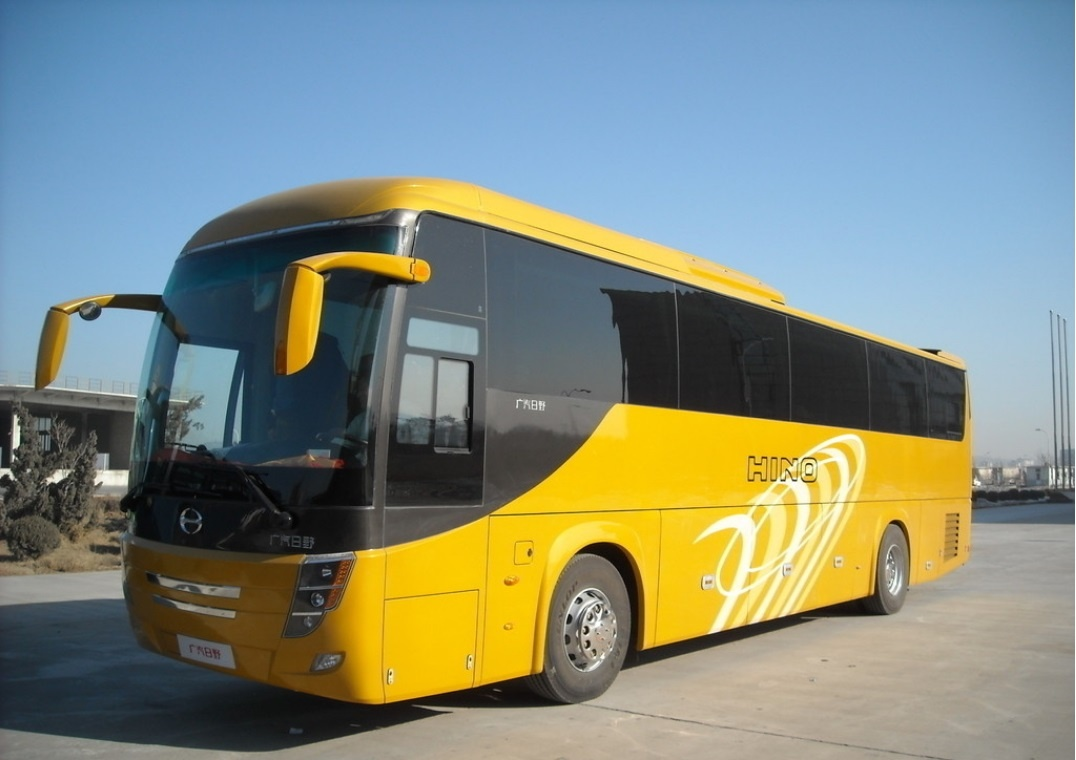bus: (90, 171, 1005, 704)
